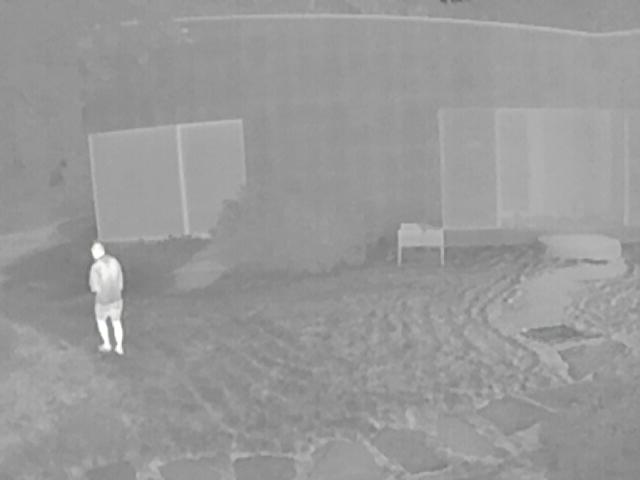person: (89, 242, 123, 357)
